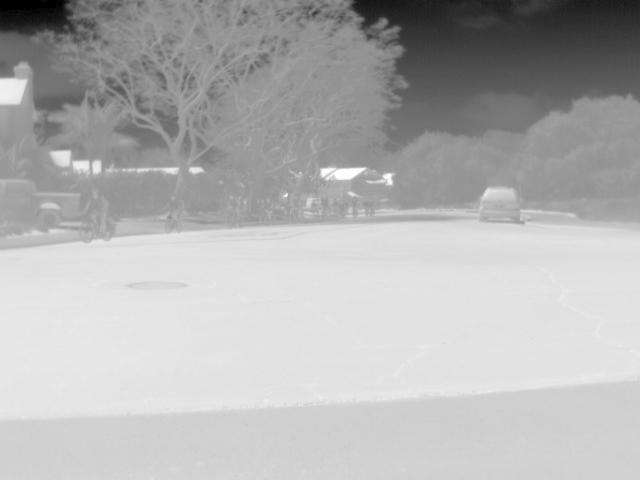car: (0, 177, 84, 234), (478, 183, 522, 224)
person: (83, 188, 112, 234), (162, 194, 182, 229), (225, 196, 243, 222)
